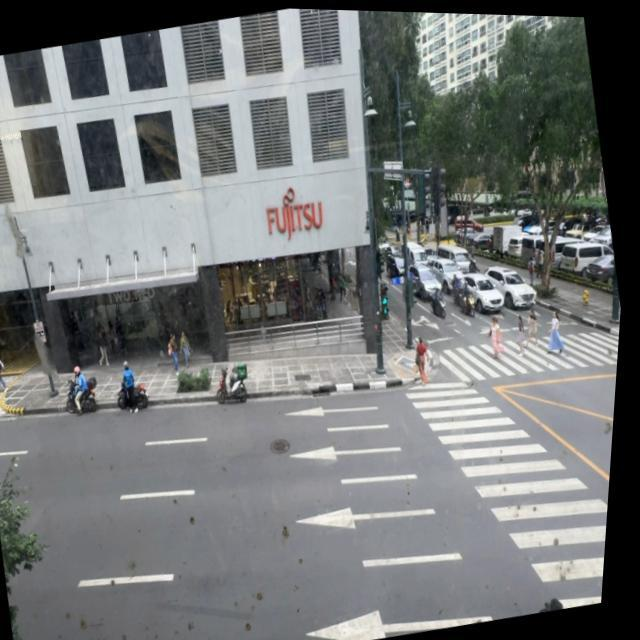jaywalking: (520, 588, 570, 616)
